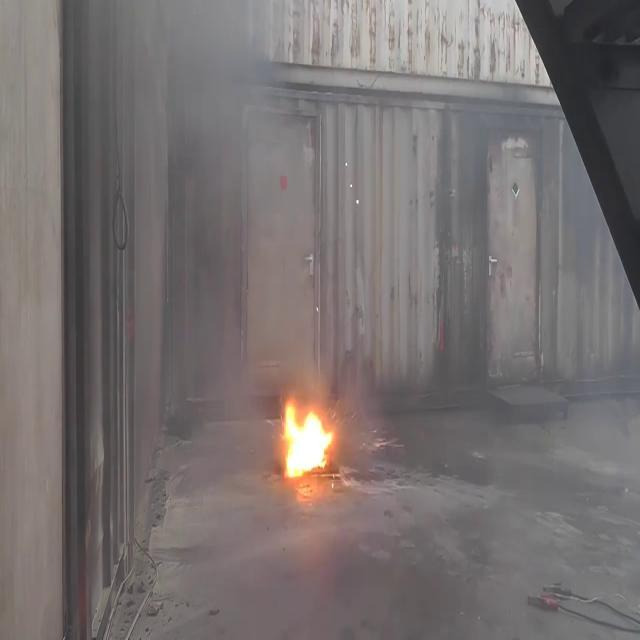Fire: (278, 391, 338, 486)
Smoke: (85, 0, 338, 386)
